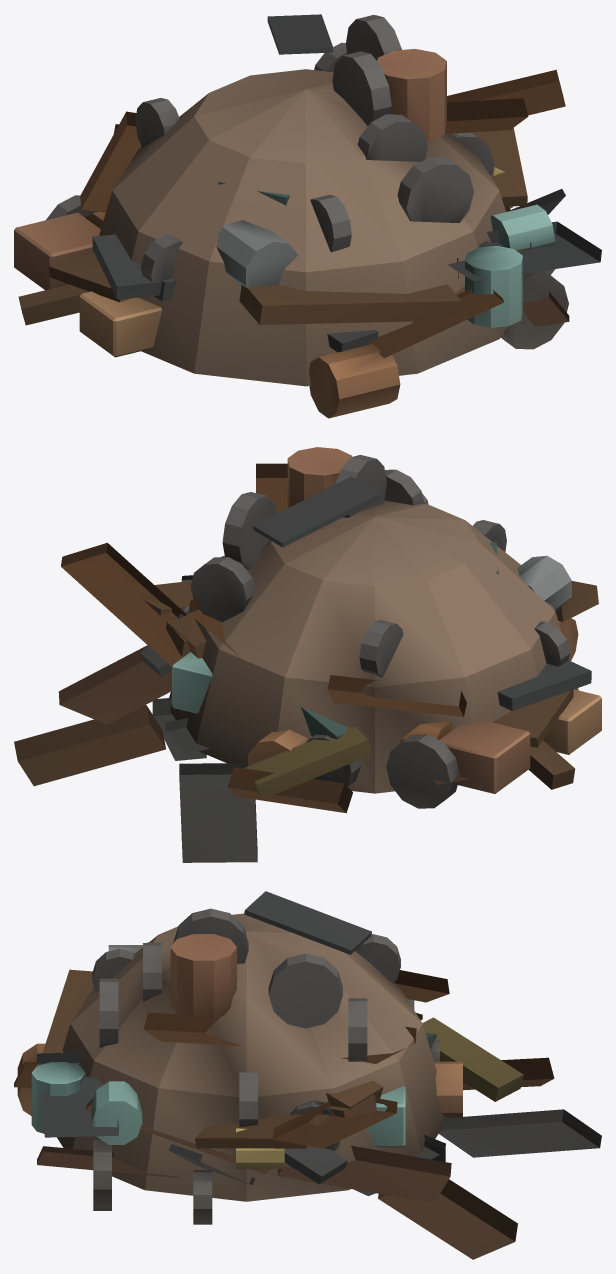
Rendered from junk_b.glb.
3 views of the same model, one above another, from view 1: azimuth 30°, elevation 25°; view 2: azimuth 150°, elevation 25°; view 3: azimuth 270°, elevation 25° (orthographic). The views are drawn at different scales.
Parts seen in each view (by area): view 1: junk_b; view 2: junk_b; view 3: junk_b.
Part boxes in pixels (left/top/right/bottom): junk_b: left=14, top=14, right=601, bottom=418; junk_b: left=14, top=447, right=601, bottom=862; junk_b: left=14, top=891, right=601, bottom=1259.
Size of the model in its own units: 7.6 by 3.64 by 7.8.
